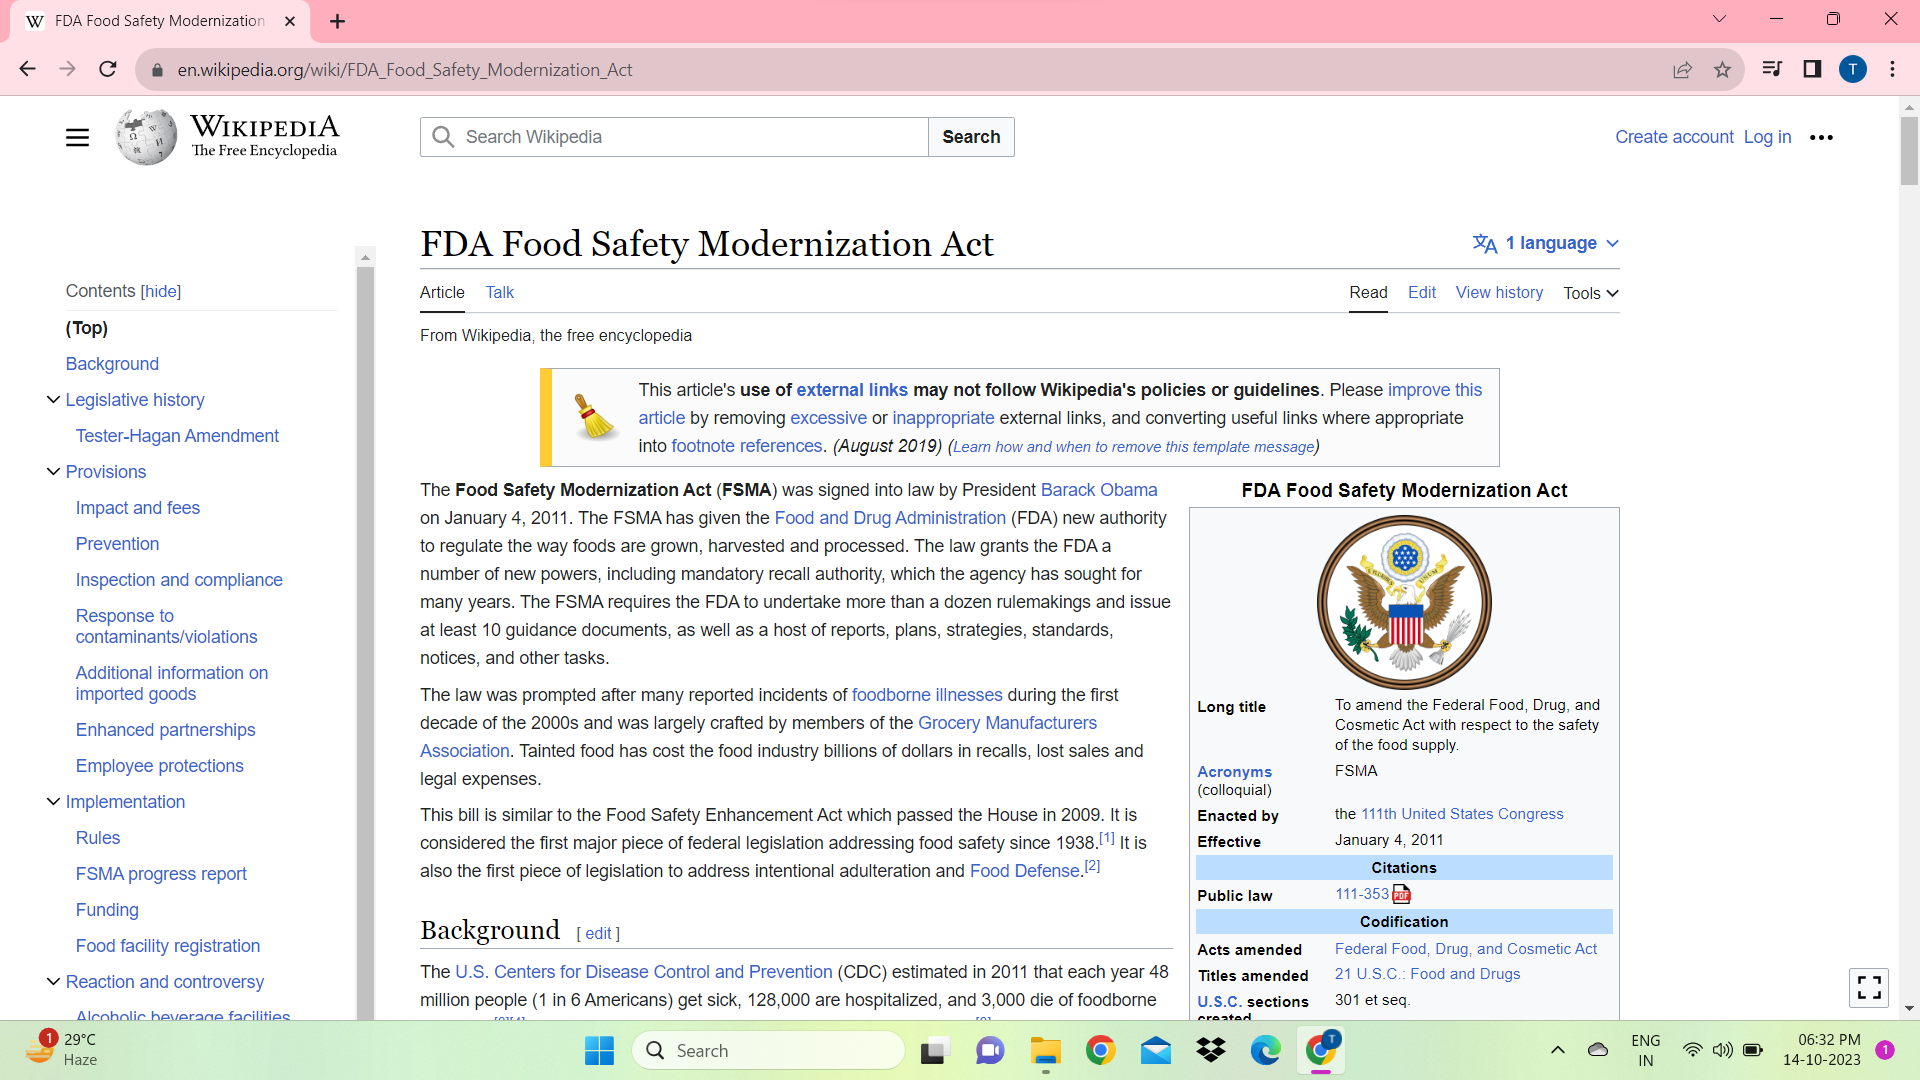Image: (1305, 509, 1532, 688)
Paragraph: (418, 477, 1180, 669), (418, 686, 1154, 794), (421, 803, 1159, 899), (637, 377, 1490, 455), (418, 960, 1178, 1017), (384, 214, 1001, 272), (1331, 695, 1615, 785), (69, 600, 274, 651), (1329, 804, 1577, 845), (67, 661, 278, 708), (411, 323, 708, 356), (67, 418, 282, 454), (71, 559, 289, 591), (1320, 934, 1609, 957), (414, 910, 563, 949), (61, 376, 214, 414), (65, 756, 261, 785), (74, 939, 269, 967), (65, 971, 268, 997), (58, 858, 251, 886), (69, 715, 265, 740), (62, 276, 211, 306), (67, 495, 204, 525), (1195, 757, 1279, 800), (65, 794, 203, 818), (1188, 692, 1276, 729), (65, 526, 166, 556), (1193, 963, 1316, 988), (69, 352, 170, 377), (1188, 939, 1305, 960), (1344, 855, 1458, 876), (1456, 281, 1543, 306), (69, 824, 132, 858), (1187, 807, 1292, 827), (1197, 882, 1275, 909), (1353, 913, 1456, 932), (1333, 969, 1523, 980), (1336, 276, 1395, 305), (75, 898, 156, 919), (67, 462, 153, 481), (1180, 835, 1275, 852), (62, 315, 119, 340), (1327, 990, 1408, 1007), (1556, 278, 1604, 305), (421, 278, 472, 302), (481, 281, 522, 309), (1400, 281, 1443, 306)
